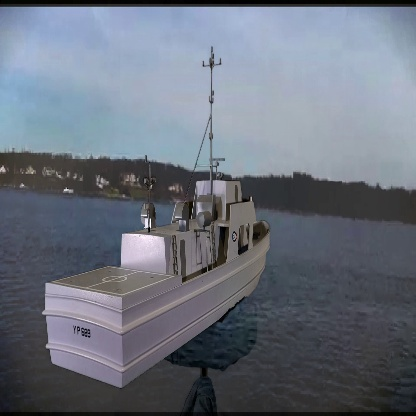YP689: (43, 47, 271, 388)
